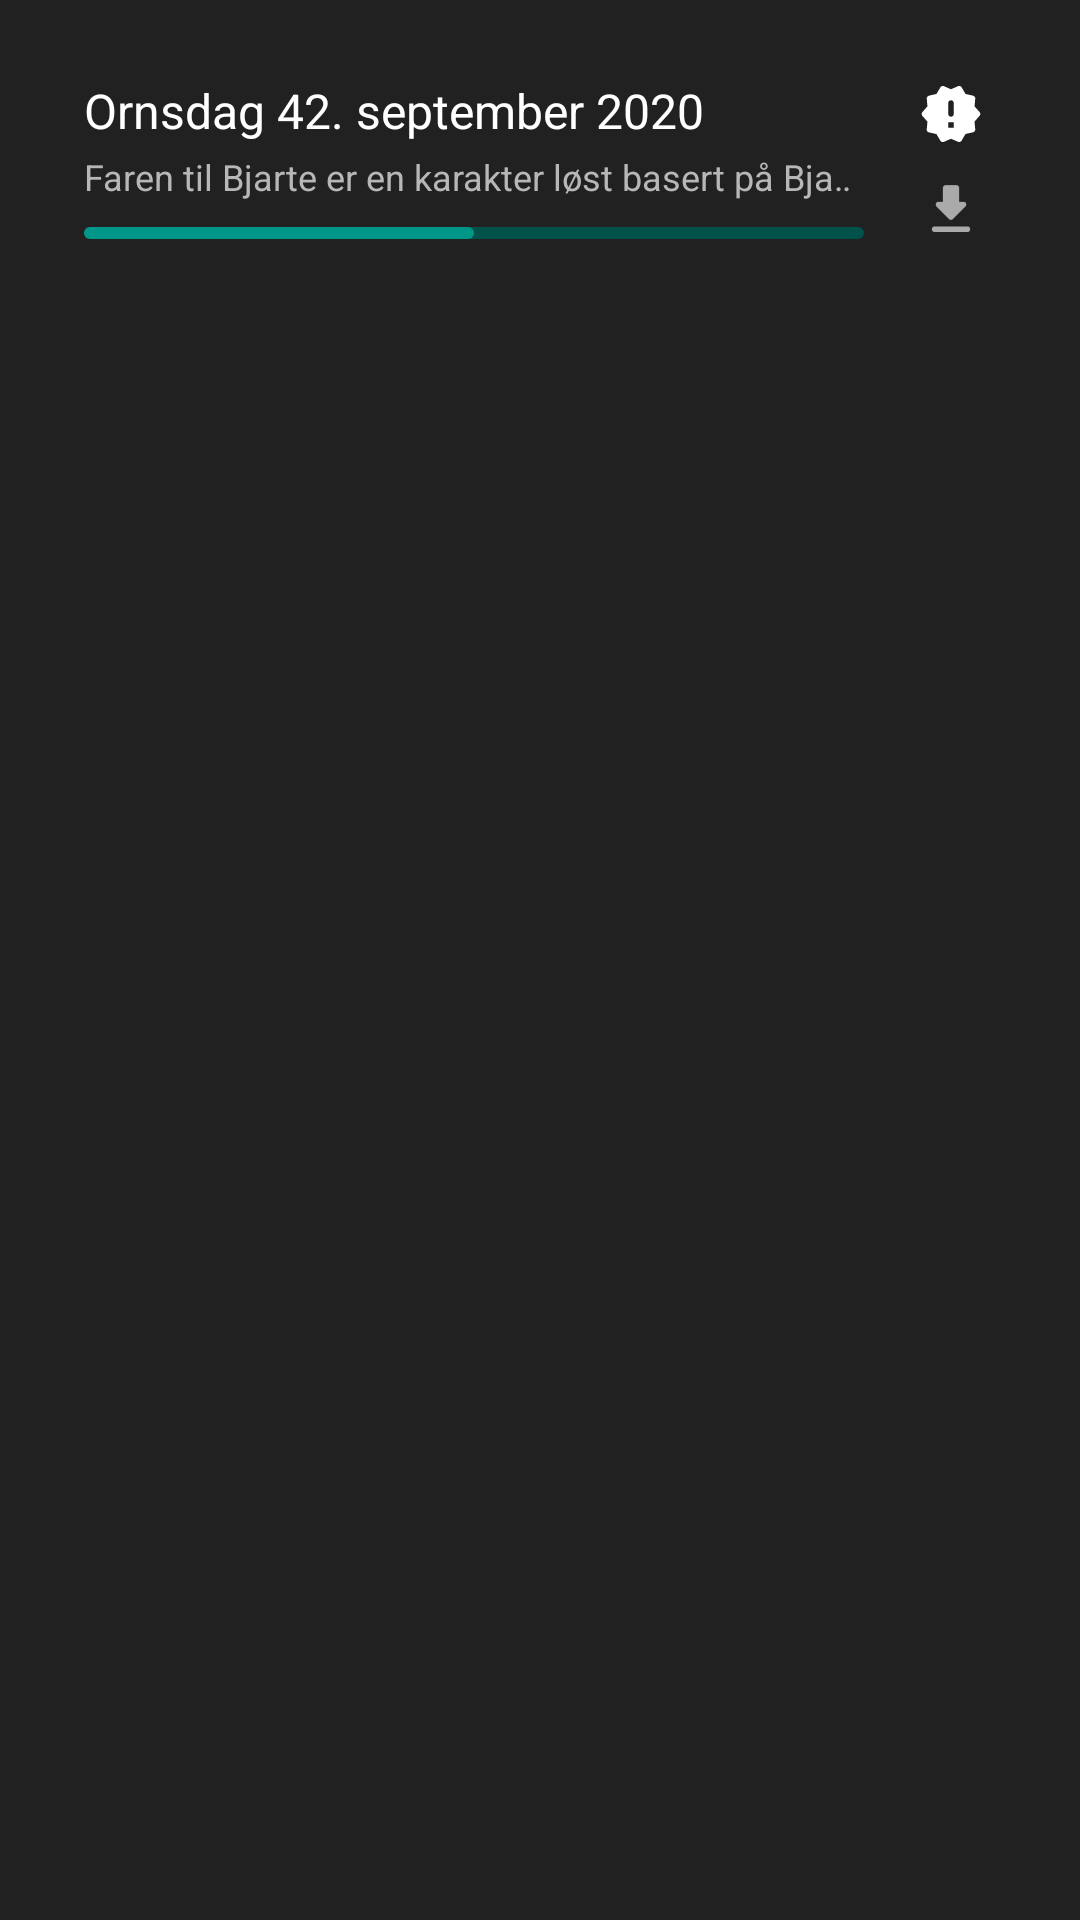

Screen size 1080px x 1920px. Icon name, then its box in pixels as detection(x1, y1, x2, y2):
get app: detection(932, 185, 970, 232)
releases: detection(921, 86, 981, 142)
